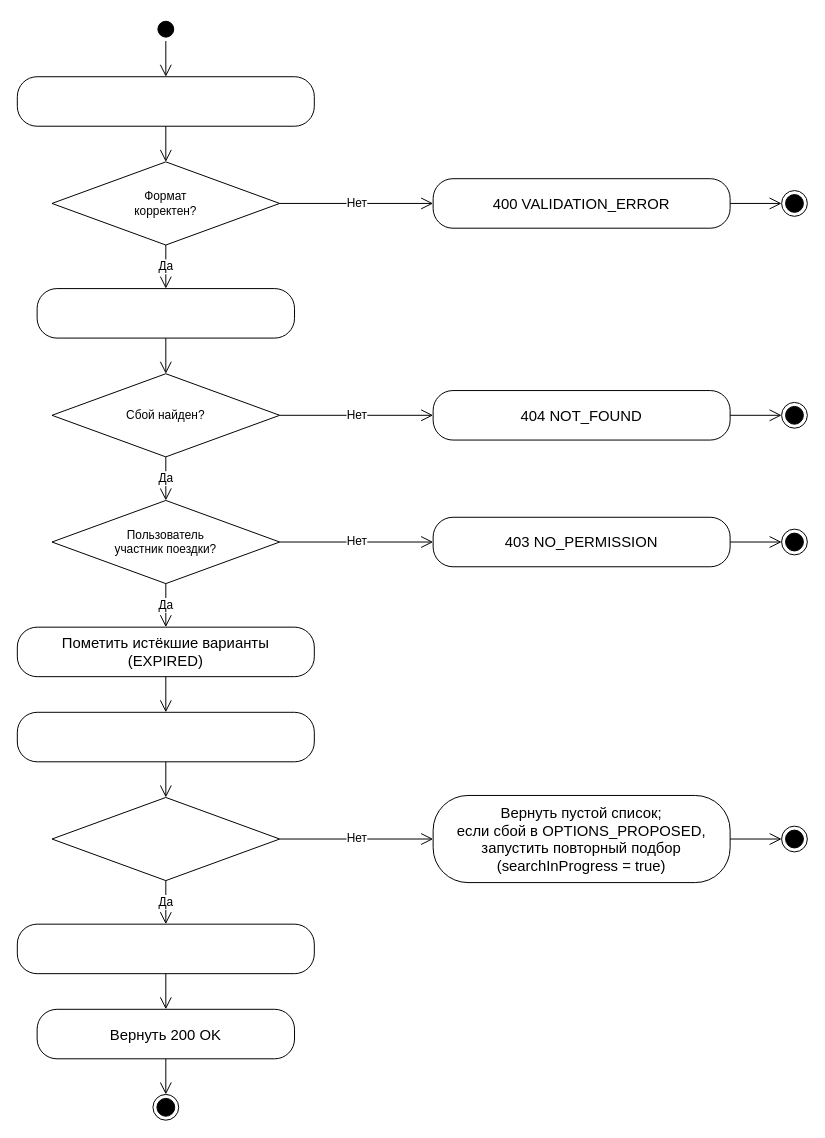
Some shapes in this 825 by 1138 pixel diagram are drawn without their labels. The shapes that lost their labels are listed below. From the top down, each one's box as (x1, y1, x2, y2) in pixels, then its label:
(16, 76, 314, 126): Получить запрос GET /alternatives
(36, 288, 295, 338): Найти сбой в БД
(16, 711, 314, 762): Получить актуальные варианты по порядку (rank)
(51, 796, 280, 881): Варианты есть?
(16, 923, 314, 974): Посчитать местное время и отметку «+1»
